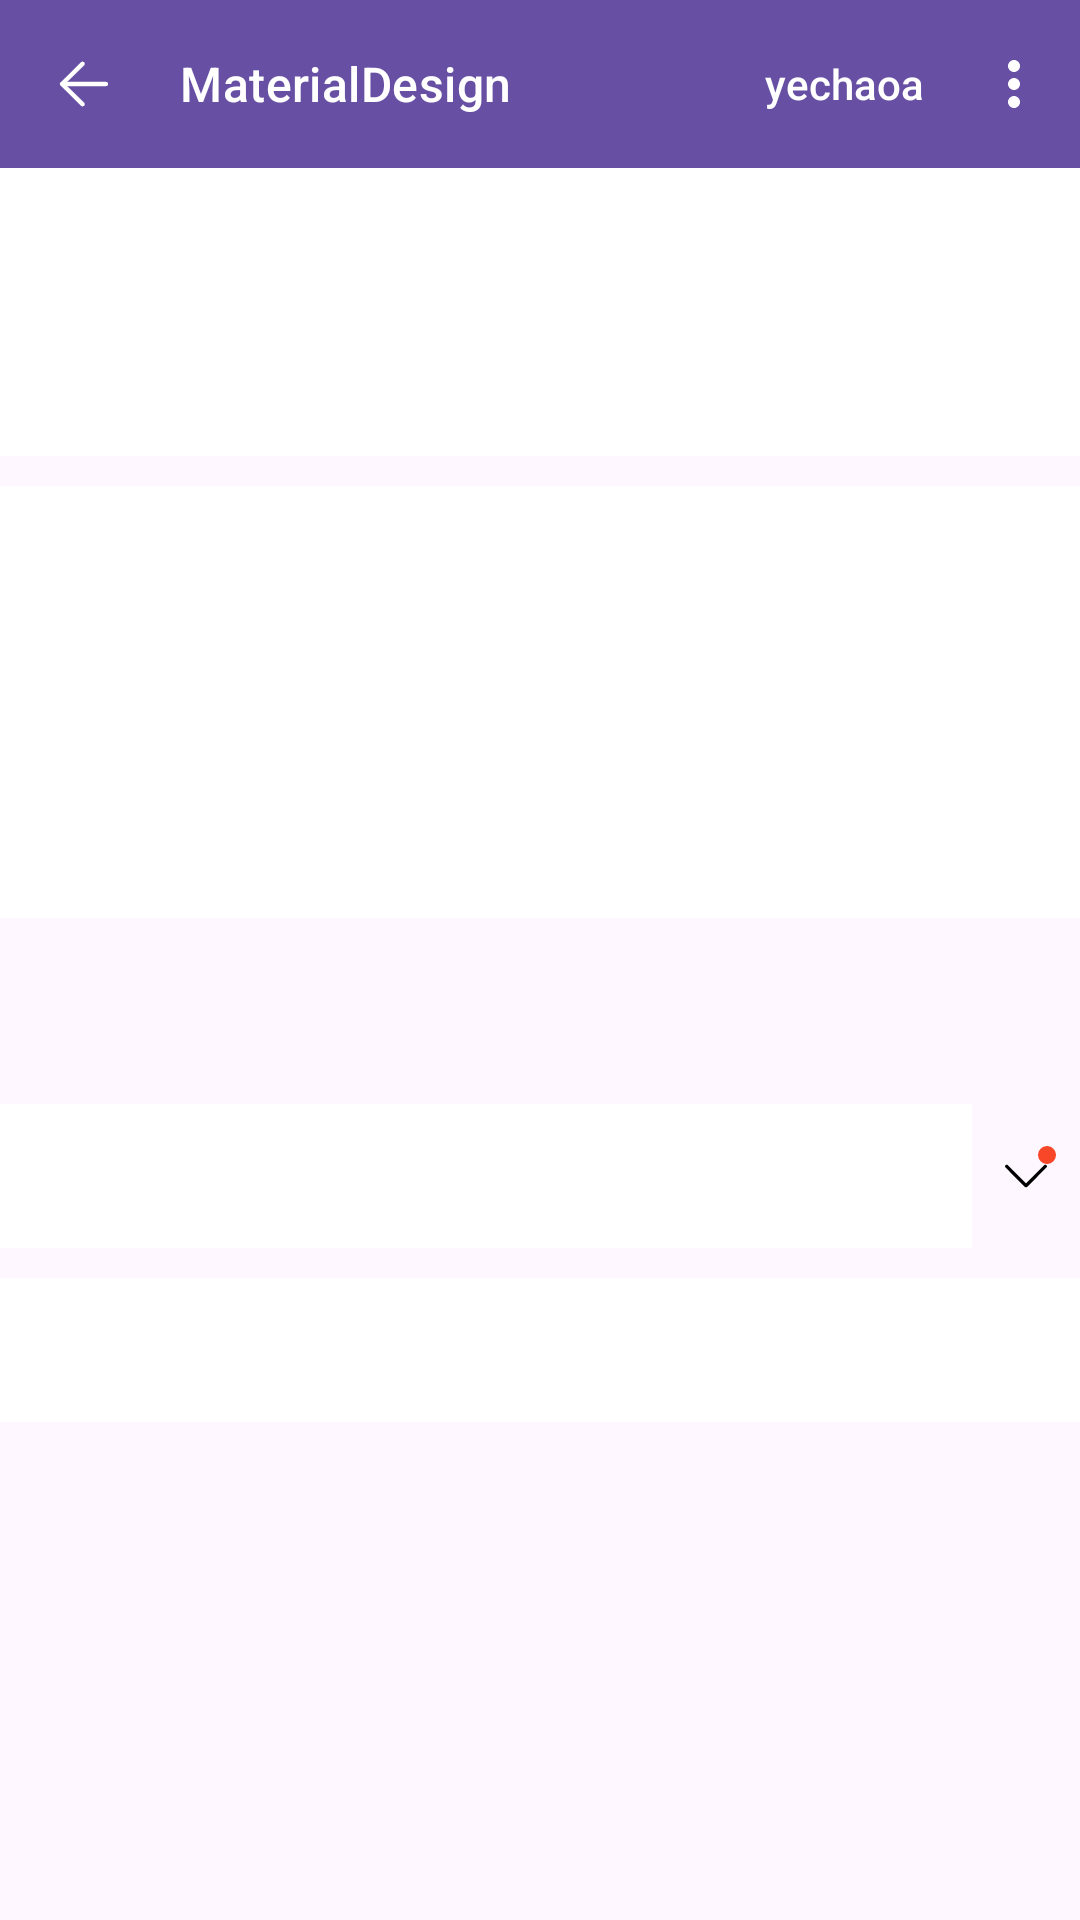

Where icons sit on this 1080 × 1920 app screen, as (x1, y1, x2, y2):
arrow down: (1005, 1146, 1056, 1188)
